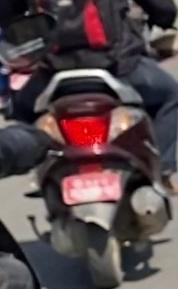license-plate: (55, 171, 127, 206)
